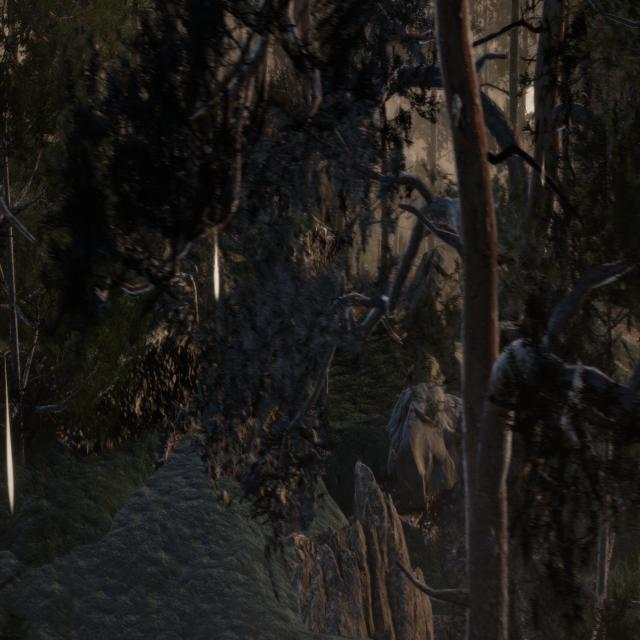Human: (315, 352, 338, 430)
